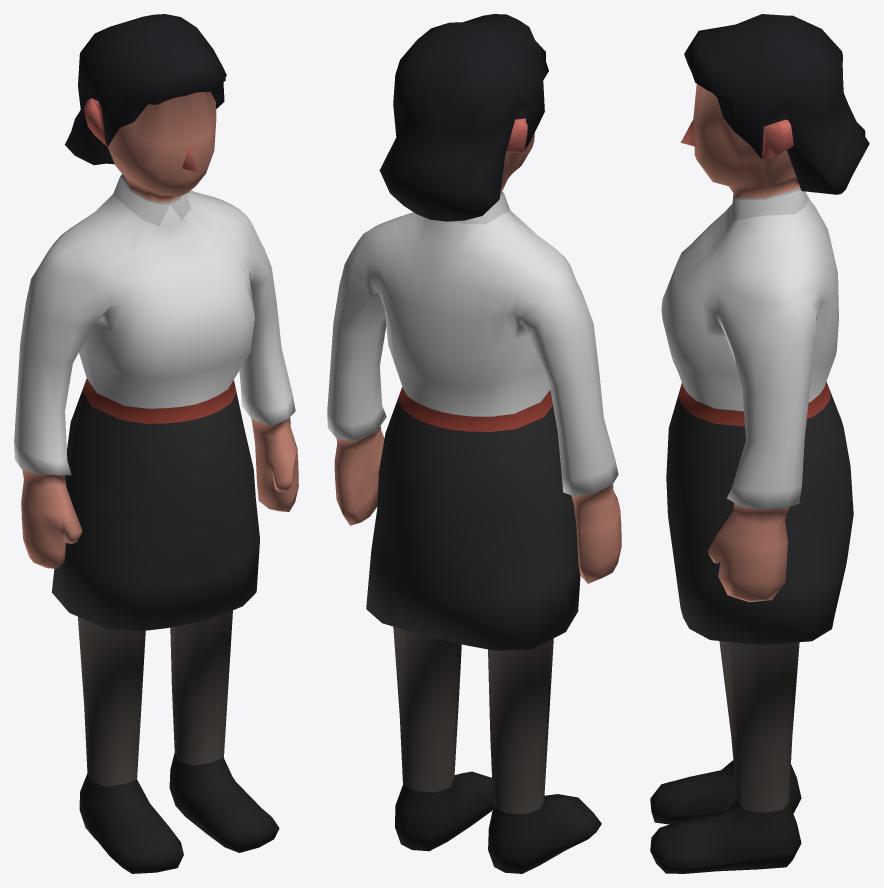
The model's file is CHAR_Attendant.fbx.
3 views of the same model, side by side, from view 1: azimuth 30°, elevation 25°; view 2: azimuth 150°, elevation 25°; view 3: azimuth 270°, elevation 25° (orthographic). The views are drawn at different scales.
Visible parts, largest first — view 1: Character_Attendant; view 2: Character_Attendant; view 3: Character_Attendant.
Part boxes in pixels (x1,y1,x2,y2): Character_Attendant: (14,14,298,873); Character_Attendant: (327,14,621,873); Character_Attendant: (650,14,869,873).
Bounding box in the file's own units: 0.6551 × 1.86 × 0.4528.
